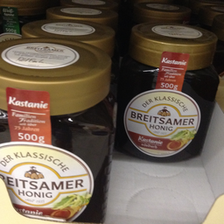honey: (1, 39, 116, 224), (114, 17, 224, 163)
